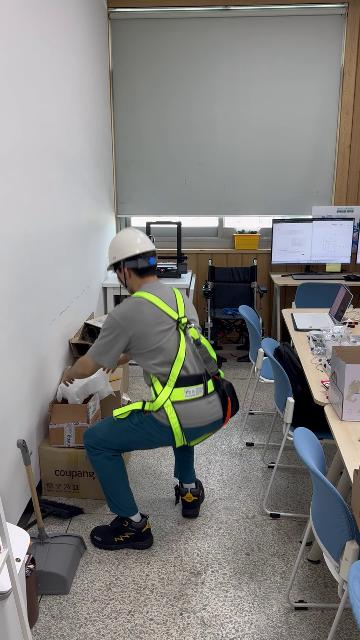helmet_worn: (106, 226, 159, 270)
shoe_worn: (89, 513, 153, 550), (174, 479, 203, 517)
vest_worn: (129, 289, 231, 445)
